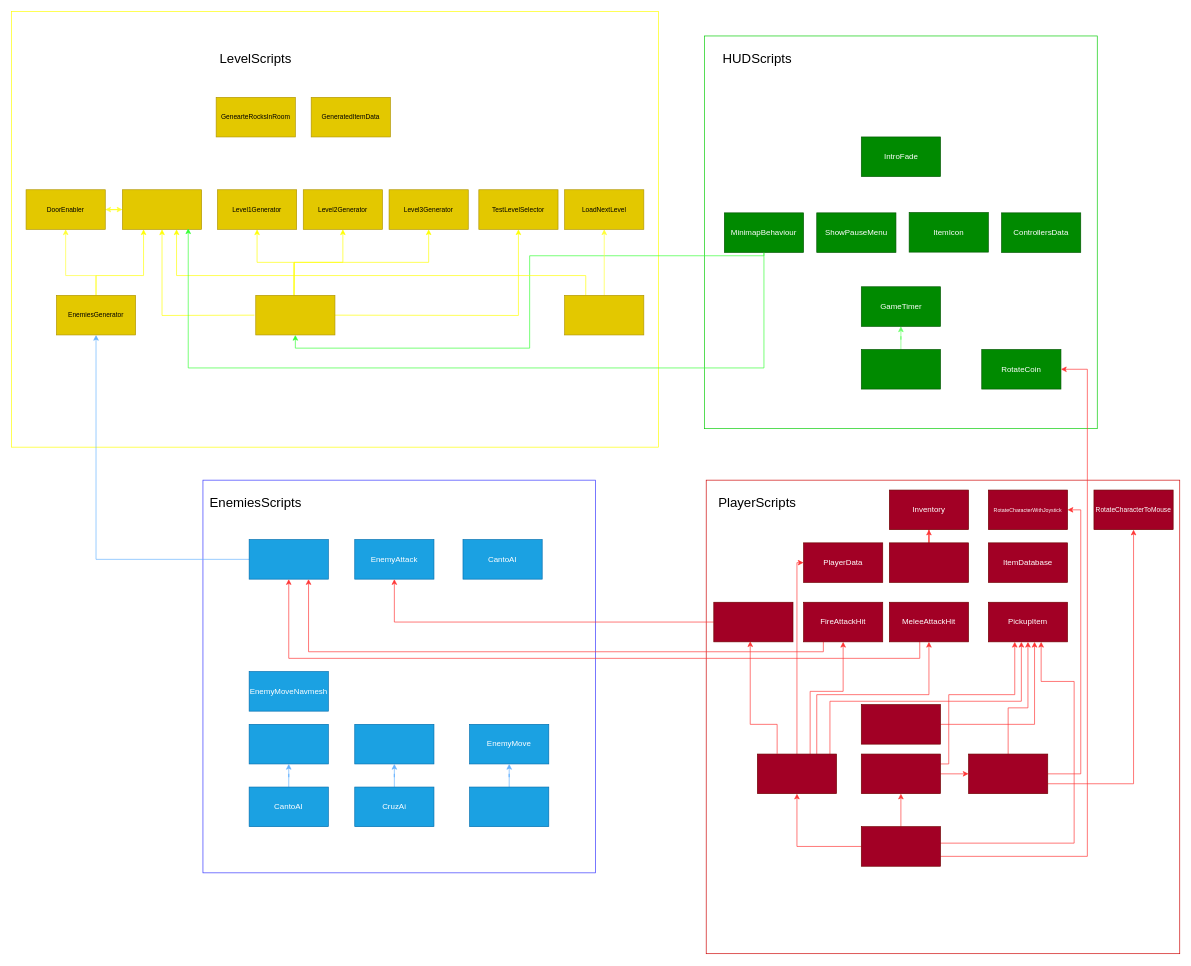
The diagram is 1191 pixels wide and 966 high, and some of its shapes have lost their labels. Each missing label, with the centre of its shape:
AudioManager: point (604, 315)
CantoMovement: point (288, 744)
CaraAI: point (509, 806)
ChangeCharacter: point (900, 846)
CruzMovement: point (394, 744)
EnemyLife: point (288, 559)
FireballBehaviour: point (753, 622)
InventoryItem: point (929, 562)
LevelGenerator: point (295, 315)
NextRoomCalculator: point (162, 209)
PlayerAttack: point (797, 773)
PlayerBehaviour: point (900, 773)
PlayerHealth: point (1008, 773)
PlayerInventory: point (900, 724)
TimerData: point (900, 369)
